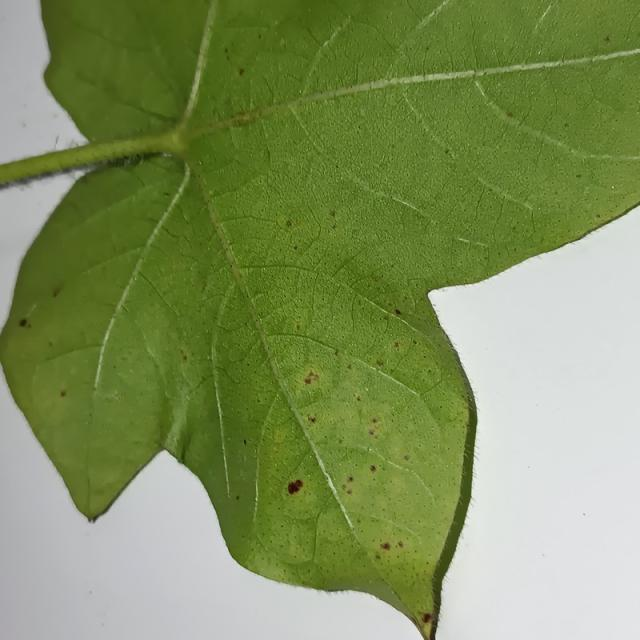Bacterial_Blight: (313, 509, 350, 564), (281, 475, 315, 512), (295, 362, 327, 391), (278, 467, 309, 496), (378, 538, 408, 566), (228, 110, 258, 127), (289, 539, 309, 559), (387, 475, 405, 493), (391, 337, 409, 354), (271, 425, 287, 444), (367, 418, 381, 439), (420, 611, 434, 631), (355, 403, 365, 426), (341, 476, 355, 492), (180, 349, 189, 363), (53, 287, 62, 298), (380, 542, 391, 551), (463, 401, 470, 413), (307, 414, 316, 423), (19, 319, 28, 327), (257, 310, 265, 318), (238, 68, 245, 76), (397, 541, 404, 548), (370, 464, 376, 472), (395, 309, 403, 315), (296, 322, 301, 331), (369, 429, 375, 436), (60, 390, 66, 397), (377, 359, 383, 366), (371, 417, 378, 423), (286, 220, 292, 227), (404, 454, 410, 461), (331, 223, 337, 230), (330, 210, 336, 217), (444, 148, 450, 155), (348, 476, 354, 482), (375, 554, 381, 560), (507, 112, 513, 118), (338, 438, 343, 445), (334, 348, 339, 355), (347, 363, 352, 370), (356, 396, 361, 402), (430, 427, 435, 433), (427, 368, 432, 373), (235, 495, 240, 500)
